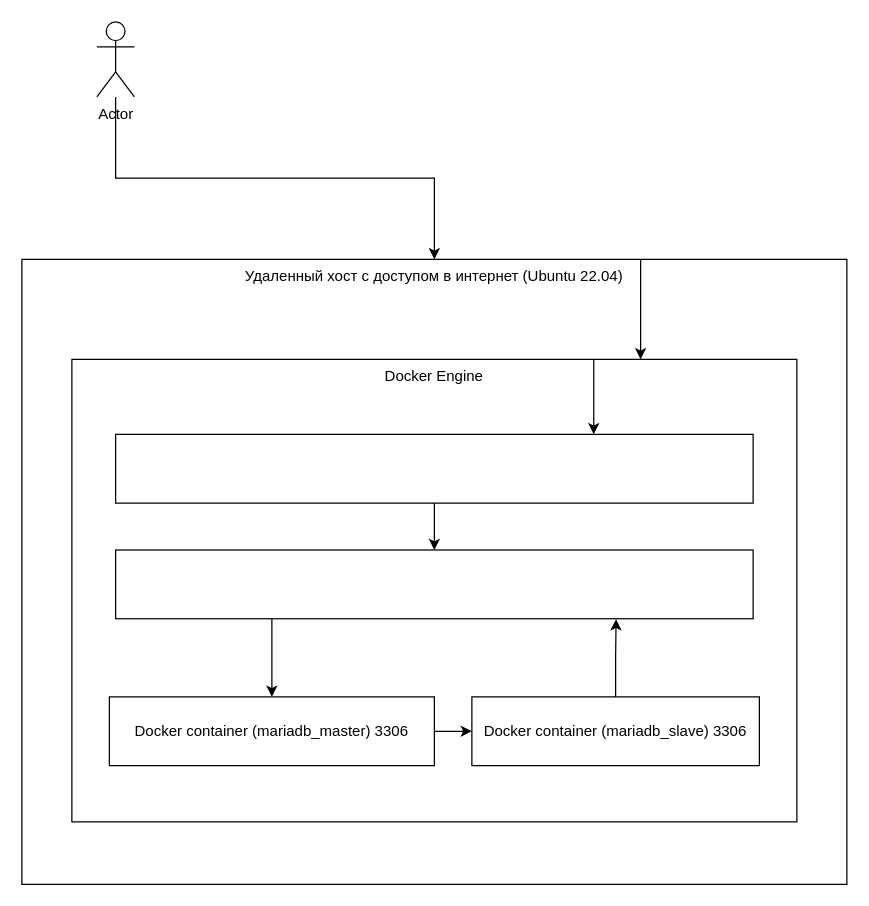
The diagram is 869 pixels wide and 906 high, and some of its shapes have lost their labels. Each missing label, with the centre of its shape:
"Docker container (nginx_webserver) 80:80" goes at [433,468].
"Docker container (todoapp:php-fpm) 9000" goes at [433,584].
